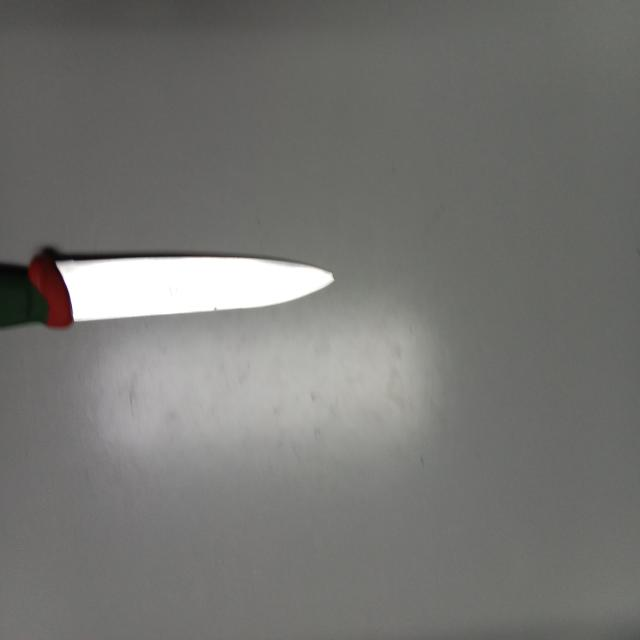Knife: (0, 254, 334, 327)
